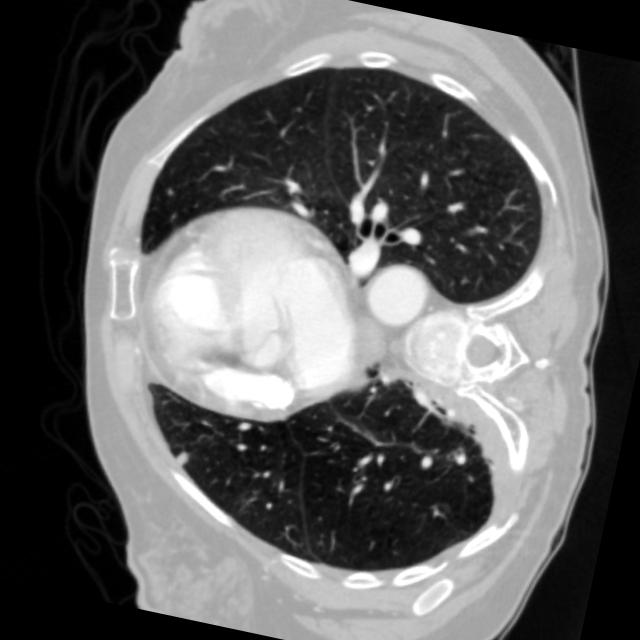nodule: (166, 443, 196, 473)
